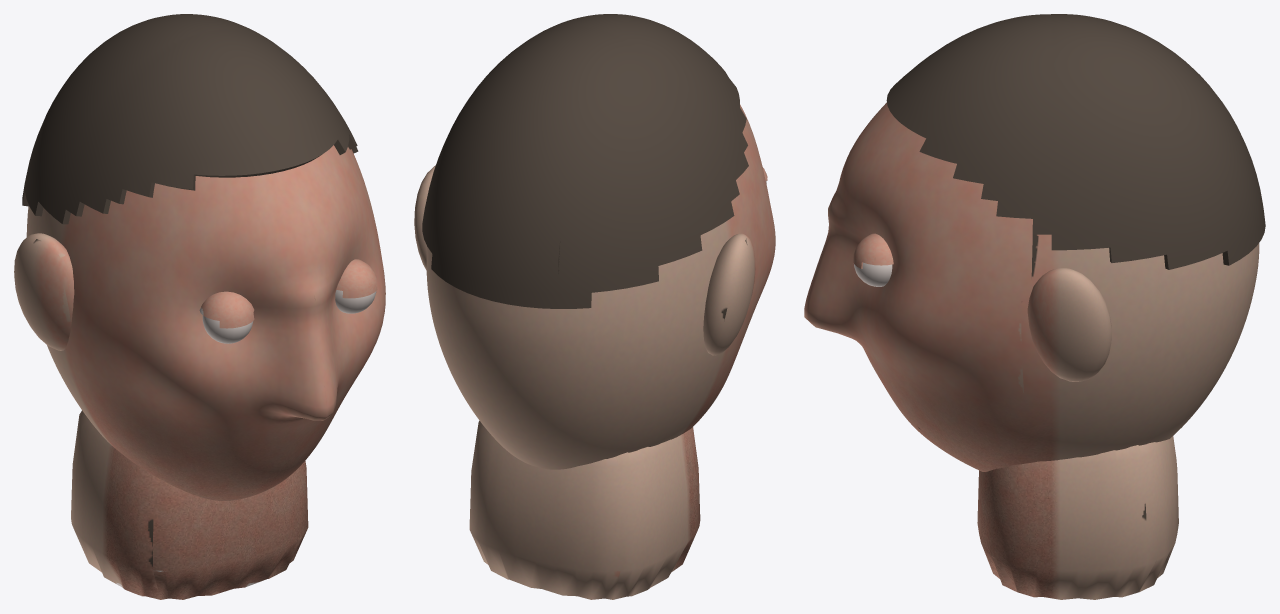
The model's file is head_test.glb.
3 renders of one model, left to right at view 1: azimuth 30°, elevation 25°; view 2: azimuth 150°, elevation 25°; view 3: azimuth 270°, elevation 25°, orthographic. The views are drawn at different scales.
Visible parts, largest first — view 1: head, hair, neck, ear-1, lid-1, lid1, eye-1, eye1; view 2: hair, head, neck, ear-1, ear1; view 3: head, hair, neck, ear1, lid1, eye1.
Part boxes in pixels (bbox=[...]): head: bbox=[26, 145, 385, 500]; hair: bbox=[22, 14, 358, 224]; neck: bbox=[71, 410, 308, 599]; ear-1: bbox=[14, 233, 74, 350]; lid-1: bbox=[199, 291, 254, 328]; lid1: bbox=[336, 259, 377, 298]; eye-1: bbox=[202, 315, 253, 343]; eye1: bbox=[335, 290, 376, 313]; hair: bbox=[422, 14, 748, 308]; head: bbox=[426, 104, 775, 469]; neck: bbox=[469, 420, 700, 599]; ear-1: bbox=[703, 233, 755, 355]; ear1: bbox=[414, 165, 435, 270]; head: bbox=[804, 102, 1259, 471]; hair: bbox=[886, 14, 1265, 269]; neck: bbox=[977, 436, 1178, 599]; ear1: bbox=[1027, 268, 1111, 381]; lid1: bbox=[853, 233, 893, 268]; eye1: bbox=[854, 262, 892, 286].
Size of the model in its own units: 0.1748 by 0.2783 by 0.2084.
Materials: 1 (1 with a texture image).
